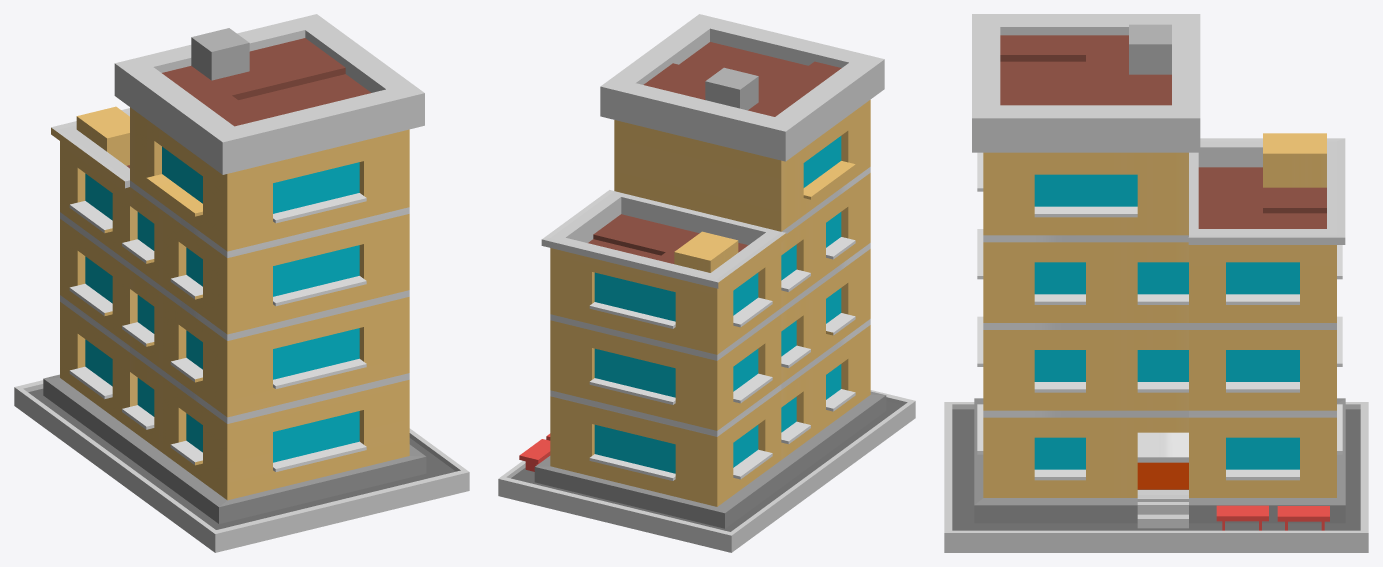
File: house_tall_c.fbx
3 renders of one model, left to right at view 1: azimuth 30°, elevation 25°; view 2: azimuth 150°, elevation 25°; view 3: azimuth 270°, elevation 25°, orthographic. The views are drawn at different scales.
Parts seen in each view (by area): view 1: House_5; view 2: House_5; view 3: House_5.
Boxes of the visible parts, x1,y1,x2,y2 form: House_5: [14, 14, 469, 552]; House_5: [498, 14, 915, 552]; House_5: [944, 14, 1368, 552].
Size of the model in its own units: 446 by 698 by 610.
1 material, 1 textured.
